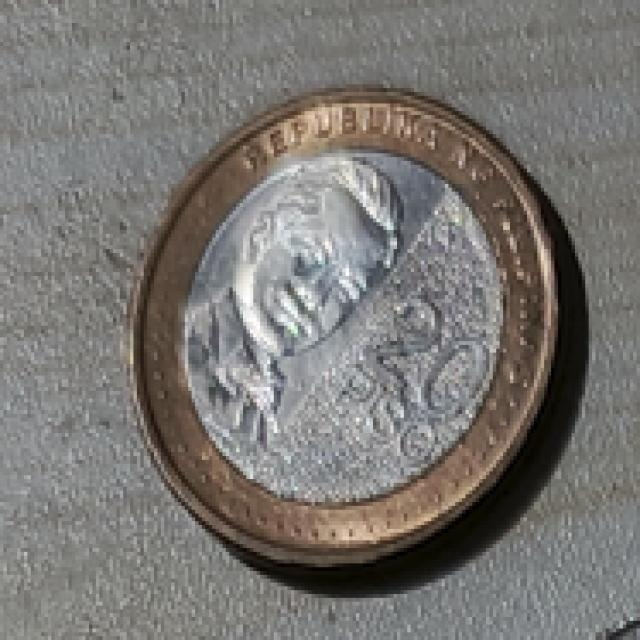20_peso: (133, 92, 558, 567)
